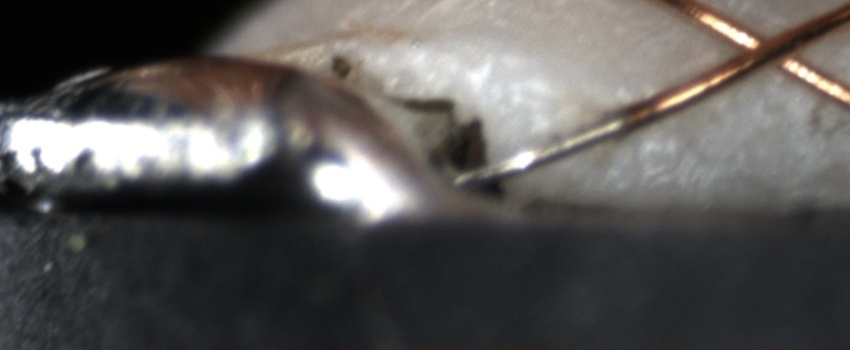CL: (717, 13, 824, 83)
TS: (452, 115, 627, 189)
TTCW: (460, 79, 713, 193)
